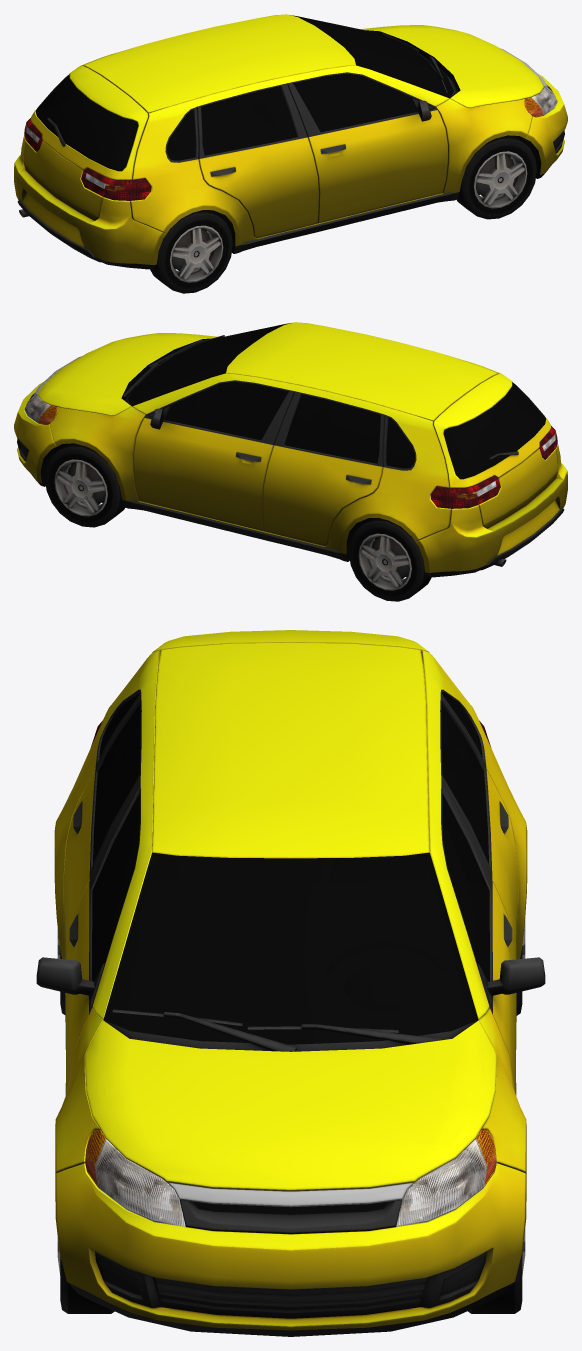
File: hatch.glb
3 renders of one model, top to bottom at view 1: azimuth 30°, elevation 25°; view 2: azimuth 150°, elevation 25°; view 3: azimuth 270°, elevation 25°, orthographic. The views are drawn at different scales.
Parts seen in each view (by area): view 1: Carroceria, Roda_TD, Roda_DD; view 2: Carroceria, Roda_DE, Roda_TE; view 3: Carroceria, Roda_DE, Roda_DD.
Boxes of the visible parts, x1=… form: Carroceria: x1=14, y1=14, x2=567, y2=269; Roda_TD: x1=150, y1=210, x2=232, y2=293; Roda_DD: x1=457, y1=135, x2=536, y2=219; Carroceria: x1=14, y1=322, x2=567, y2=577; Roda_DE: x1=44, y1=443, x2=124, y2=527; Roda_TE: x1=348, y1=518, x2=431, y2=601; Carroceria: x1=36, y1=630, x2=545, y2=1336; Roda_DE: x1=468, y1=1229, x2=525, y2=1313; Roda_DD: x1=57, y1=1238, x2=114, y2=1313.
Size of the model in its own units: 3.96 by 1.35 by 1.74.
Materials: 4 (3 with a texture image).
